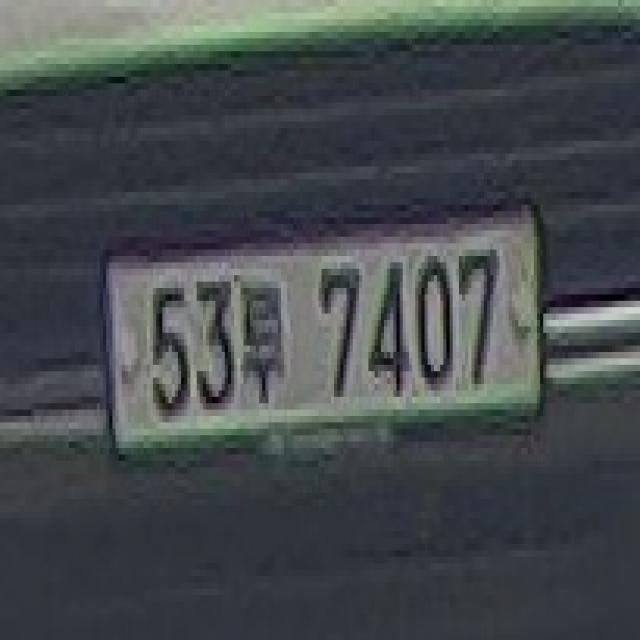0: (421, 236, 456, 409)
3: (193, 262, 240, 416)
4: (366, 256, 418, 416)
5: (144, 256, 194, 429)
7: (309, 256, 365, 422), (459, 243, 512, 403)
license_plate: (100, 186, 549, 487)
lu: (234, 275, 287, 410)
